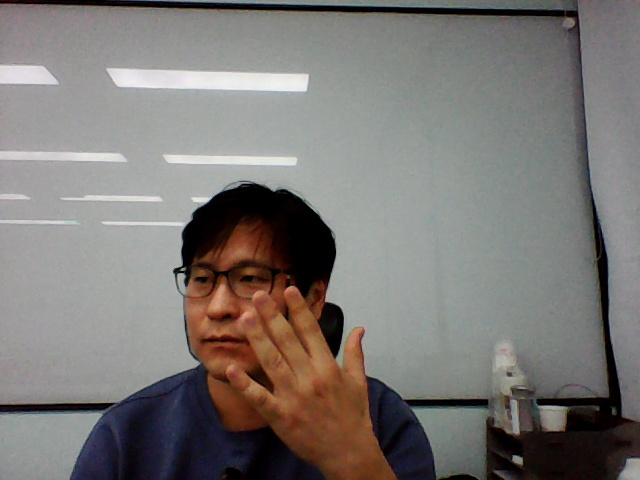five: (215, 279, 390, 449)
